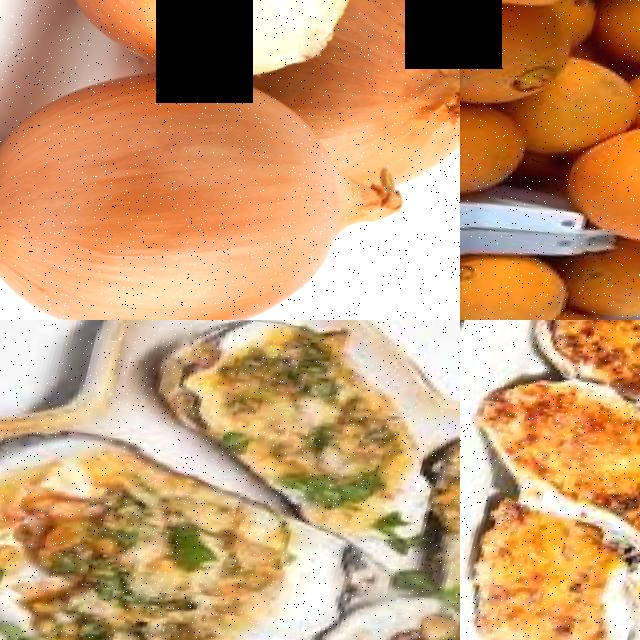onion: (0, 39, 382, 320), (46, 0, 400, 102), (309, 0, 460, 203)
orange: (460, 0, 588, 123), (567, 121, 640, 265), (460, 245, 588, 320), (460, 93, 539, 210), (565, 236, 640, 320), (587, 0, 640, 81)
oysters: (0, 418, 377, 640), (138, 320, 460, 552), (403, 409, 460, 634)
